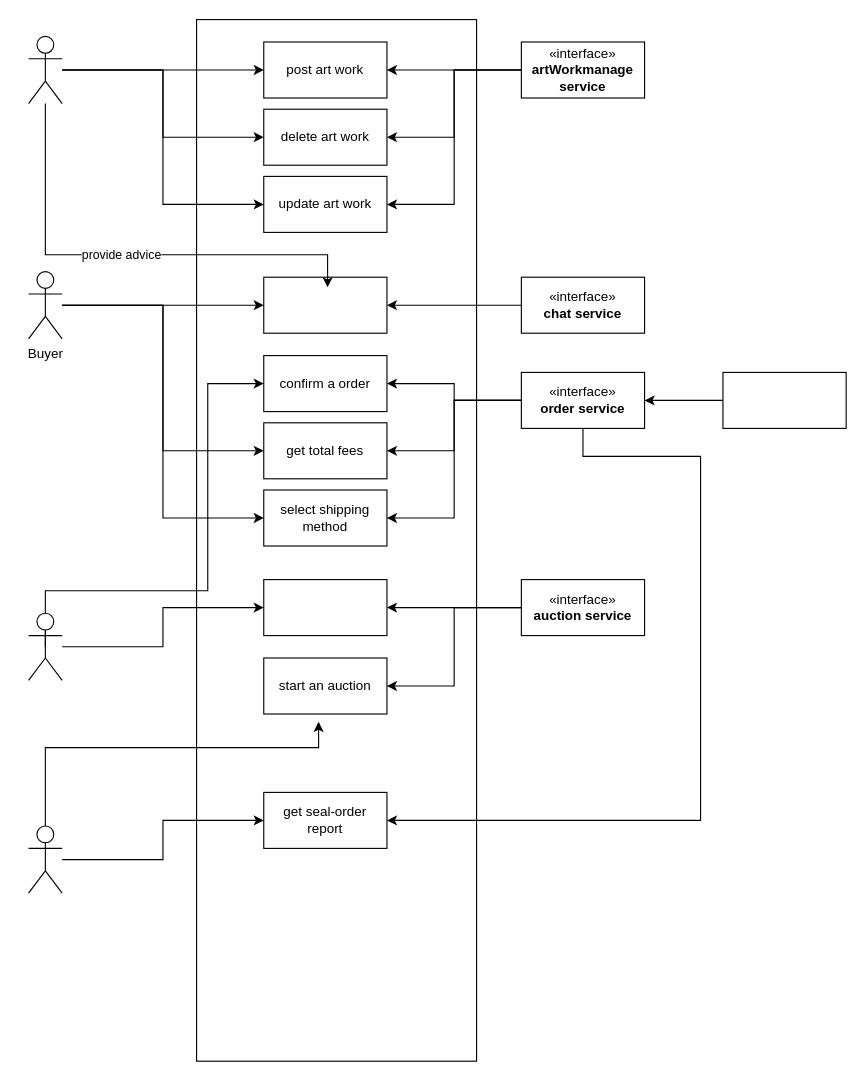
Image size: 866x1081. Some labels were removed from this diagram. The centre of each missing label's shape, as x and y in pixels:
"Artist" belongs at (x=44, y=69).
"Collector" belongs at (x=44, y=646).
"Dealer" belongs at (x=44, y=859).
"external ship third service" belongs at (x=784, y=399).
"join an auction" belongs at (x=325, y=607).
"start online chat" belongs at (x=325, y=304).
